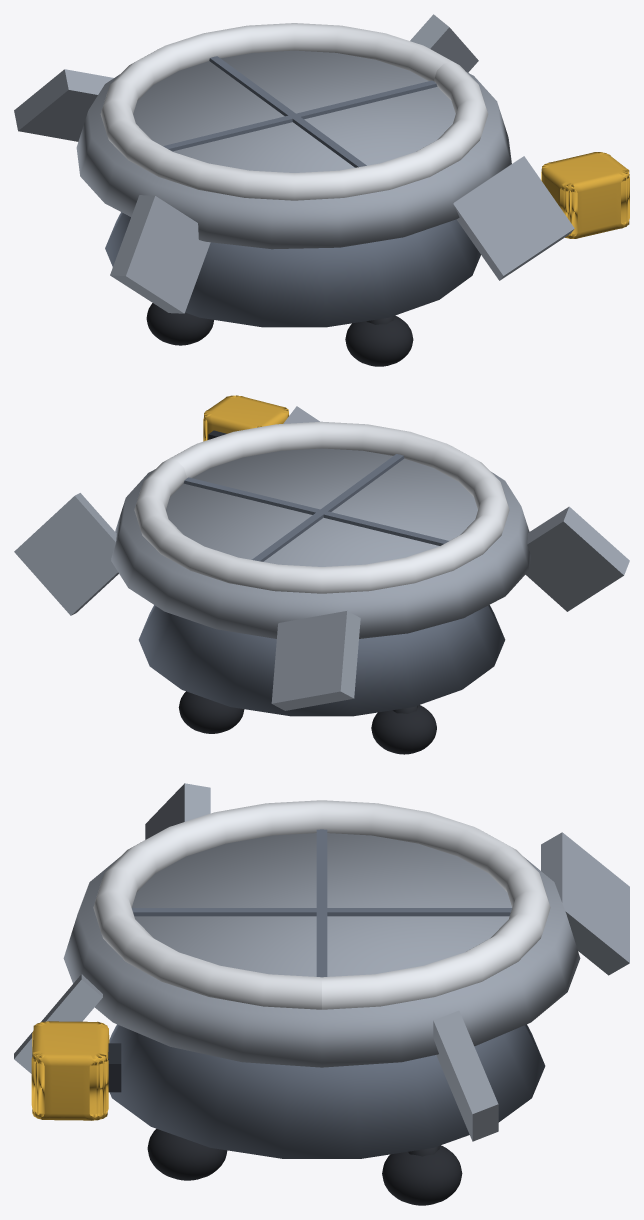
Rendered from b_starport.glb.
3 renders of one model, top to bottom at view 1: azimuth 30°, elevation 25°; view 2: azimuth 150°, elevation 25°; view 3: azimuth 270°, elevation 25°, orthographic. The views are drawn at different scales.
Visible parts, largest first — view 1: sp_deck.001, sp_ring.001, sp_wall.001, sp_arm3.001, sp_arm2.001, sp_booth.001, sp_arm1.001, sp_foot2.001, sp_seam.001, sp_foot1.001, sp_seam2.001, sp_arm0.001; view 2: sp_deck.001, sp_ring.001, sp_wall.001, sp_arm1.001, sp_arm0.001, sp_arm2.001, sp_foot1.001, sp_booth.001, sp_seam.001, sp_foot0.001, sp_seam2.001; view 3: sp_deck.001, sp_wall.001, sp_ring.001, sp_booth.001, sp_arm1.001, sp_arm0.001, sp_foot0.001, sp_seam2.001, sp_foot2.001, sp_arm3.001, sp_arm2.001, sp_seam.001 (+1 smaller).
Part boxes in pixels (box(x1,y1,x2,y2)): sp_deck.001: box(76, 50, 511, 249); sp_ring.001: box(100, 23, 488, 200); sp_wall.001: box(105, 212, 480, 327); sp_arm3.001: box(453, 156, 574, 280); sp_arm2.001: box(110, 195, 210, 313); sp_booth.001: box(541, 152, 629, 238); sp_arm1.001: box(14, 69, 113, 141); sp_foot2.001: box(345, 315, 413, 366); sp_seam.001: box(163, 80, 437, 151); sp_foot1.001: box(146, 303, 213, 345); sp_seam2.001: box(209, 56, 366, 167); sp_arm0.001: box(410, 14, 478, 72); sp_deck.001: box(111, 448, 530, 638); sp_ring.001: box(134, 421, 509, 593); sp_wall.001: box(138, 605, 505, 716); sp_arm1.001: box(271, 611, 360, 710); sp_arm0.001: box(14, 493, 118, 615); sp_arm2.001: box(525, 506, 629, 611); sp_foot1.001: box(371, 705, 436, 754); sp_booth.001: box(203, 395, 289, 441); sp_seam.001: box(183, 477, 448, 545); sp_foot0.001: box(178, 691, 244, 733); sp_seam2.001: box(252, 454, 404, 561); sp_deck.001: box(63, 833, 580, 1067); sp_wall.001: box(109, 1024, 545, 1158); sp_ring.001: box(93, 800, 550, 1009); sp_booth.001: box(31, 1021, 109, 1120); sp_arm1.001: box(541, 832, 629, 975); sp_arm0.001: box(433, 1010, 498, 1141); sp_foot0.001: box(382, 1145, 462, 1205); sp_seam2.001: box(132, 908, 511, 916); sp_foot2.001: box(147, 1129, 227, 1180); sp_arm3.001: box(14, 974, 102, 1073); sp_arm2.001: box(145, 783, 210, 839); sp_seam.001: box(316, 829, 327, 977).
Size of the model in its own units: 1.94 by 0.8486 by 1.76.
